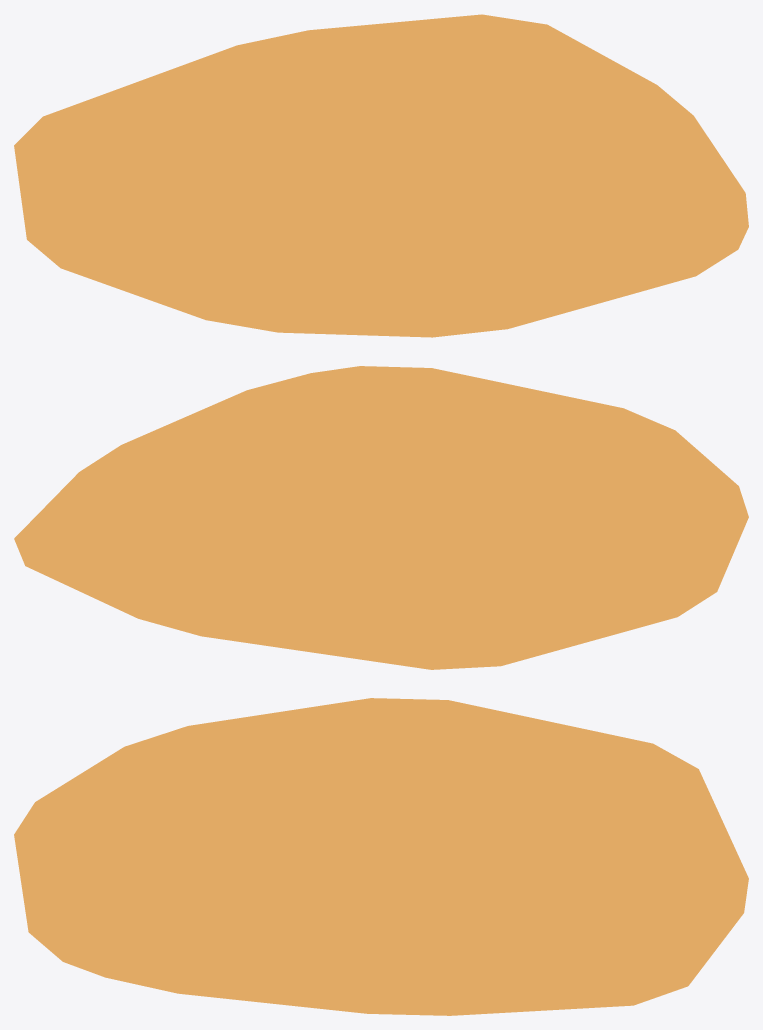
The model's file is Dirt_B.fbx.
3 renders of one model, top to bottom at view 1: azimuth 30°, elevation 25°; view 2: azimuth 150°, elevation 25°; view 3: azimuth 270°, elevation 25°, orthographic. The views are drawn at different scales.
Visible parts, largest first — view 1: Dirt_B; view 2: Dirt_B; view 3: Dirt_B.
Boxes of the visible parts, x1,y1,x2,y2 form: Dirt_B: (14, 14, 748, 337); Dirt_B: (14, 366, 748, 669); Dirt_B: (14, 698, 748, 1015).
Size of the model in its own units: 231 by 0 by 226.
